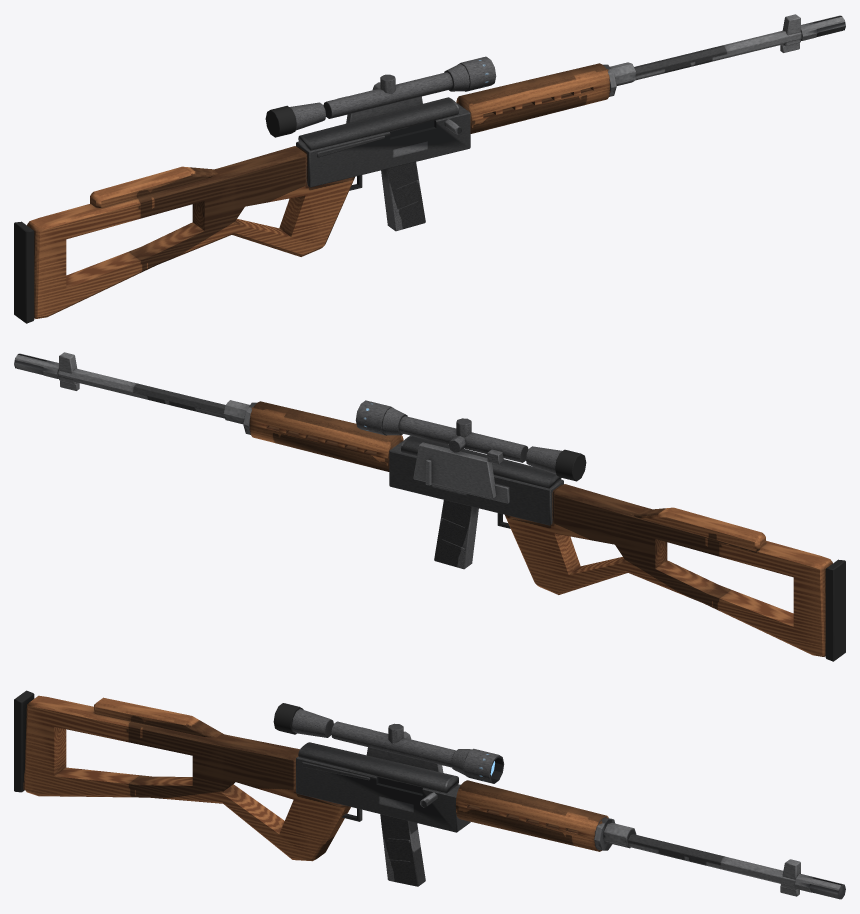
The model's file is type79.gltf.
3 renders of one model, top to bottom at view 1: azimuth 30°, elevation 25°; view 2: azimuth 150°, elevation 25°; view 3: azimuth 330°, elevation 25°, orthographic.
Visible parts, largest first — view 1: type79; view 2: type79; view 3: type79.
Part boxes in pixels (x1,y1,x2,y2): type79: [14, 14, 845, 323]; type79: [14, 352, 845, 661]; type79: [14, 690, 845, 899].
Bounding box in the file's own units: 1.43 × 0.249 × 0.096.
1 material, 1 textured.
